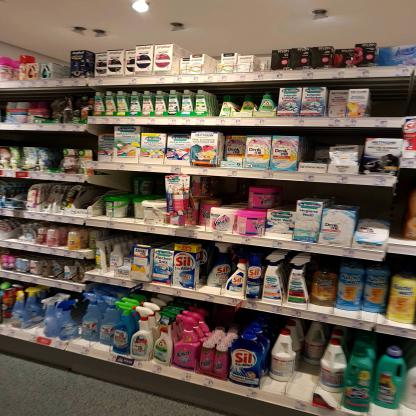Void: (355, 190, 402, 218), (1, 132, 86, 147), (375, 80, 410, 115), (302, 129, 327, 160), (305, 184, 346, 201), (219, 180, 246, 202), (280, 185, 294, 207)
